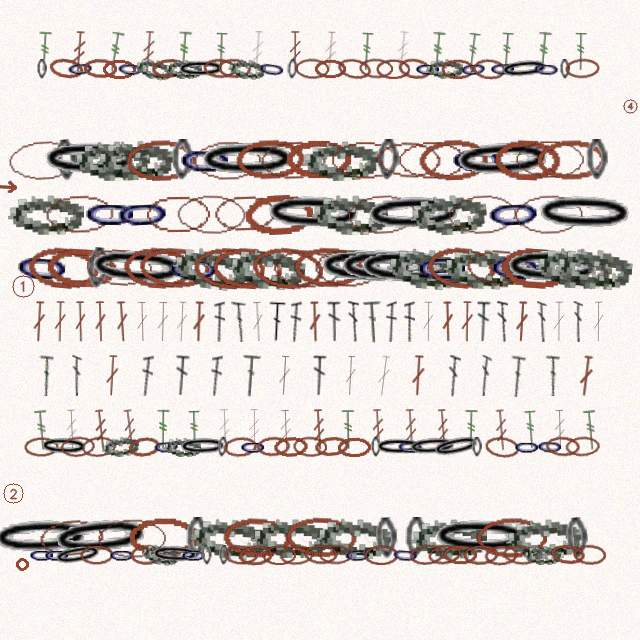chain: (48, 512, 154, 563), (85, 244, 190, 292), (451, 137, 555, 183), (315, 245, 419, 290), (362, 192, 466, 236), (355, 246, 459, 290), (262, 192, 366, 235), (533, 192, 637, 235), (335, 246, 439, 289), (501, 246, 605, 289), (429, 516, 533, 559), (196, 139, 299, 181), (39, 139, 142, 180), (0, 515, 93, 560), (171, 243, 251, 293), (409, 191, 488, 237), (386, 245, 465, 291), (250, 244, 325, 292), (228, 245, 306, 291), (555, 245, 633, 291), (535, 245, 613, 290), (26, 244, 100, 291), (190, 516, 268, 560), (505, 516, 583, 560), (425, 244, 498, 291), (138, 245, 212, 291), (192, 245, 266, 291), (302, 138, 379, 182), (443, 246, 520, 290), (270, 245, 343, 291), (211, 245, 283, 291), (463, 245, 535, 291), (36, 515, 108, 561), (97, 138, 174, 181), (316, 516, 393, 559), (6, 138, 79, 182), (345, 192, 418, 236), (83, 245, 154, 290), (122, 245, 193, 290), (499, 245, 570, 290), (74, 139, 150, 181), (8, 193, 84, 235), (312, 193, 388, 235), (411, 517, 487, 559), (446, 192, 518, 236), (45, 246, 117, 290), (285, 516, 358, 559), (243, 192, 314, 236), (222, 516, 293, 560), (252, 517, 328, 558), (43, 192, 115, 235), (374, 138, 444, 182), (235, 138, 306, 181), (258, 138, 329, 181), (312, 246, 383, 289), (125, 139, 197, 181), (175, 193, 247, 235), (513, 193, 585, 235), (418, 138, 488, 181), (293, 246, 363, 289), (536, 139, 607, 181), (96, 517, 167, 559), (476, 517, 547, 559), (493, 138, 562, 181), (211, 192, 280, 235), (192, 139, 262, 181), (329, 139, 400, 180), (396, 139, 467, 180), (514, 139, 585, 180), (128, 517, 199, 558), (143, 193, 212, 234), (285, 139, 353, 180), (13, 245, 72, 290), (114, 192, 172, 235), (485, 192, 543, 235), (487, 246, 545, 289), (165, 247, 223, 289), (177, 139, 234, 181), (449, 139, 506, 180), (82, 193, 139, 234), (414, 247, 471, 288), (430, 432, 483, 461), (52, 541, 104, 569), (499, 57, 550, 81), (407, 435, 458, 458), (39, 436, 89, 457), (178, 436, 228, 457), (150, 544, 200, 565), (134, 56, 174, 82), (54, 139, 78, 181), (86, 247, 110, 289), (565, 517, 589, 559), (176, 59, 226, 79), (374, 437, 424, 457), (101, 434, 140, 459), (141, 542, 180, 567), (375, 517, 398, 559), (336, 56, 373, 82), (377, 139, 399, 180), (586, 139, 608, 180), (186, 517, 208, 558), (405, 517, 427, 558), (48, 56, 84, 81), (397, 56, 433, 81), (427, 542, 463, 567), (502, 543, 539, 567), (484, 435, 520, 459), (172, 139, 193, 180), (127, 435, 162, 459), (228, 58, 266, 80), (81, 435, 117, 458), (151, 57, 186, 80), (60, 435, 95, 458), (314, 435, 349, 458), (409, 543, 444, 566), (550, 543, 585, 566), (426, 58, 463, 79), (223, 436, 258, 458), (238, 544, 273, 566), (279, 544, 314, 566), (484, 544, 519, 566), (472, 58, 506, 80), (165, 59, 202, 79), (164, 437, 201, 457), (524, 545, 561, 565), (217, 58, 252, 79), (565, 58, 600, 79), (256, 436, 291, 457), (273, 436, 308, 457), (545, 436, 580, 457), (565, 436, 600, 457), (463, 544, 498, 565), (257, 57, 287, 81), (83, 58, 117, 79), (203, 58, 237, 79), (295, 58, 329, 79), (359, 58, 393, 79), (293, 436, 327, 457), (130, 544, 164, 565), (304, 544, 338, 565), (318, 544, 352, 565), (24, 437, 59, 457), (573, 544, 606, 565), (102, 59, 136, 79), (376, 59, 410, 79), (441, 59, 475, 79), (337, 437, 371, 457), (80, 545, 114, 565), (224, 545, 258, 565), (262, 545, 296, 565), (364, 545, 398, 565), (443, 545, 477, 565), (314, 59, 347, 79), (116, 58, 145, 80), (459, 58, 488, 80), (532, 58, 561, 80), (396, 436, 425, 458), (391, 544, 420, 566), (66, 58, 95, 79), (152, 436, 181, 457), (489, 58, 517, 79), (536, 436, 564, 457), (414, 59, 442, 79), (239, 437, 267, 457), (513, 437, 541, 457), (28, 545, 56, 565), (43, 545, 71, 565), (108, 545, 136, 565), (180, 545, 208, 565), (344, 545, 372, 565), (287, 59, 298, 79), (217, 437, 228, 457), (201, 545, 212, 565), (37, 59, 47, 79), (560, 59, 570, 79), (371, 437, 381, 457), (472, 437, 482, 457), (219, 545, 229, 565)
double: (363, 301, 383, 343), (241, 355, 261, 397), (374, 355, 393, 397), (507, 355, 526, 397), (577, 355, 595, 397), (268, 301, 286, 342), (231, 301, 248, 342), (37, 355, 54, 396), (445, 355, 461, 397), (31, 301, 47, 342), (114, 301, 130, 342), (250, 301, 266, 342), (514, 301, 530, 342), (104, 355, 120, 396), (174, 355, 190, 396), (410, 355, 426, 396), (544, 355, 560, 396), (93, 301, 108, 342), (155, 301, 170, 342), (327, 301, 342, 342), (476, 301, 491, 342), (277, 355, 292, 396), (312, 355, 327, 396), (343, 355, 358, 396), (53, 301, 67, 342), (135, 301, 149, 342), (175, 301, 189, 342), (192, 301, 206, 342), (308, 301, 322, 342), (421, 301, 435, 342), (460, 301, 474, 342), (552, 301, 566, 342), (140, 355, 154, 396), (209, 355, 223, 396), (478, 355, 492, 396), (74, 301, 87, 342), (289, 301, 302, 342), (441, 301, 454, 342), (592, 301, 605, 342), (214, 301, 225, 342), (348, 301, 359, 342), (386, 301, 397, 342), (404, 301, 415, 342), (497, 301, 508, 342), (71, 355, 82, 396), (537, 301, 547, 342), (573, 301, 583, 342)
noise: (10, 273, 37, 300), (1, 481, 26, 506), (621, 97, 639, 115), (14, 556, 30, 572), (0, 180, 19, 193)
treble: (105, 31, 125, 73), (464, 31, 482, 73), (33, 409, 51, 451), (92, 409, 110, 451), (121, 409, 139, 451), (582, 409, 600, 451), (36, 31, 54, 72), (394, 31, 411, 73), (429, 31, 446, 73), (535, 31, 552, 73), (493, 409, 510, 451), (140, 31, 157, 72), (249, 31, 266, 72), (322, 31, 339, 72), (71, 31, 87, 72), (176, 31, 192, 72), (359, 31, 375, 72), (499, 31, 515, 72), (311, 409, 327, 450), (370, 409, 386, 450), (403, 409, 419, 450), (435, 409, 451, 450), (523, 409, 539, 450), (214, 31, 229, 72), (64, 409, 79, 450), (187, 409, 202, 450), (217, 409, 232, 450), (278, 409, 293, 450), (341, 409, 356, 450), (464, 409, 479, 450), (552, 409, 567, 450), (288, 31, 302, 72), (574, 31, 588, 72), (156, 409, 170, 450), (247, 409, 261, 450)
